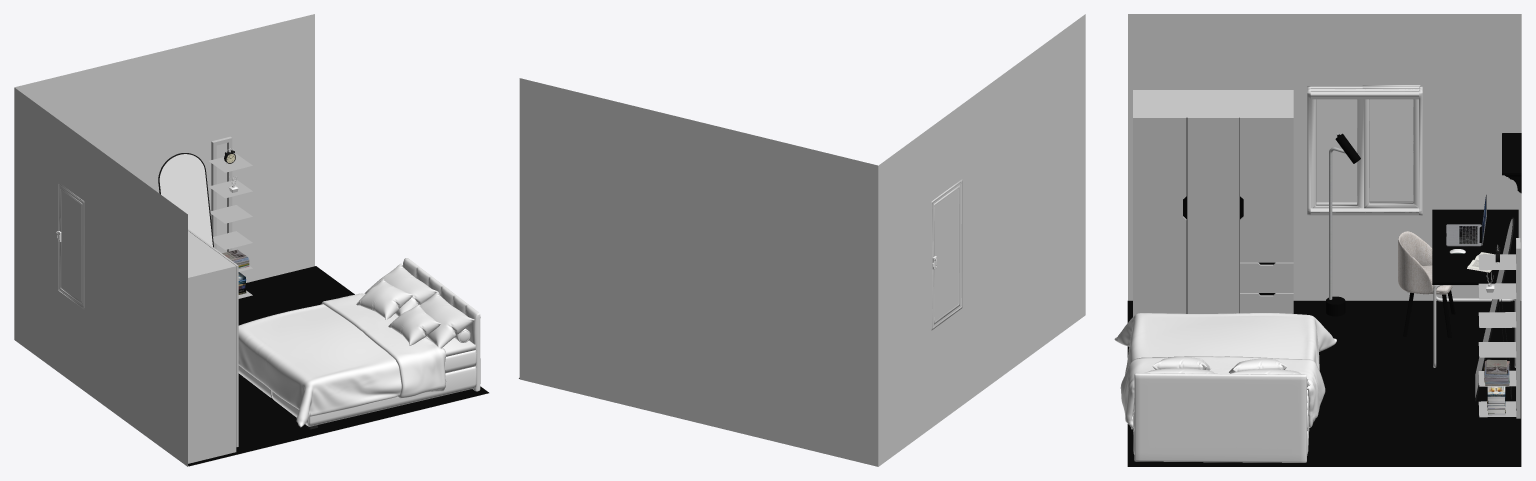
Rendered from room.glb.
3 views of the same model, side by side, from view 1: azimuth 30°, elevation 25°; view 2: azimuth 150°, elevation 25°; view 3: azimuth 270°, elevation 25° (orthographic). The views are drawn at different scales.
Parts seen in each view (by area): view 1: Plane, BedCover, Modern Wardrobe White, Plane.001, BedMain, Shatterproof Metal Full Length Mirror, PillowLarge, PillowSmall.001, PillowLarge.001, PillowSmall, Cube.018, Cube.001; view 2: Plane, Cube.018; view 3: Plane, Modern Wardrobe White, Plane.001, BedMain, BedCover, Cube.017, Table_top, Cube.015, Cube.019, Plane.002, Cube.018, Crane Floor Lamp (+13 smaller).
Part boxes in pixels (x1,y1,x2,y2): Plane: (14, 14, 487, 466); BedCover: (238, 293, 446, 427); Modern Wardrobe White: (188, 229, 238, 463); Plane.001: (188, 266, 488, 466); BedMain: (238, 258, 480, 429); Shatterproof Metal Full Length Mirror: (158, 153, 213, 247); PillowLarge: (420, 292, 474, 348); PillowSmall.001: (356, 279, 413, 319); PillowLarge.001: (365, 263, 437, 316); PillowSmall: (388, 304, 440, 345); Cube.018: (58, 183, 84, 309); Cube.001: (211, 140, 216, 249); Plane: (519, 14, 1085, 466); Cube.018: (931, 179, 962, 330); Plane: (1128, 14, 1521, 466); Modern Wardrobe White: (1133, 90, 1293, 316); Plane.001: (1127, 300, 1521, 466); BedMain: (1133, 373, 1309, 462); BedCover: (1114, 313, 1336, 429); Cube.017: (1310, 99, 1363, 208); Table_top: (1432, 209, 1518, 284); Cube.015: (1370, 99, 1412, 202); Cube.019: (1307, 86, 1422, 215); Plane.002: (1398, 231, 1455, 337); Cube.018: (1362, 85, 1420, 208); Crane Floor Lamp: (1326, 133, 1360, 316).
Size of the model in its own units: 2.03 by 1.61 by 2.07.
Materials: 50 (14 with a texture image).
